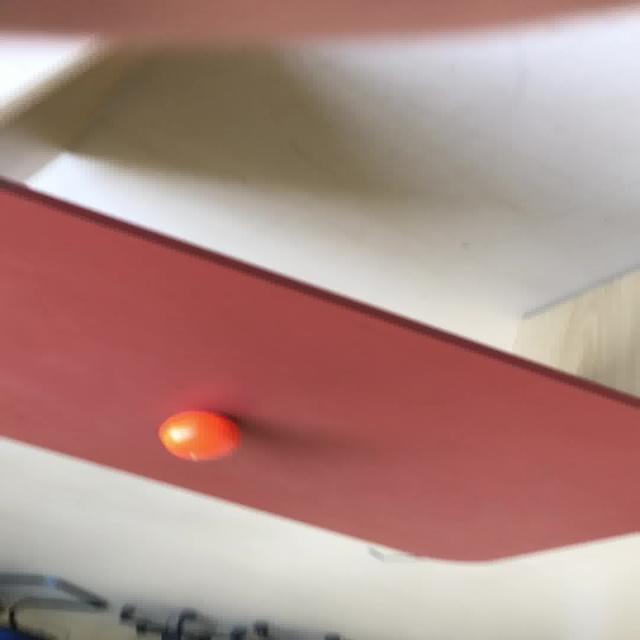orange: (156, 409, 241, 462)
